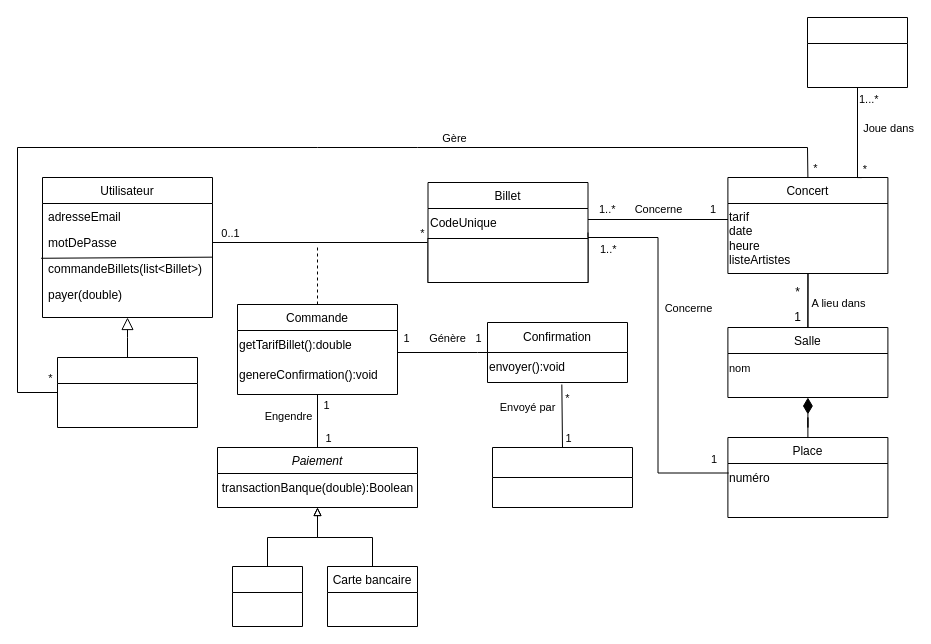
This 931x644 diagram has some shape labels left out. The shapes that lost their labels are listed below. From the top down, each one's centre as x and y in pixels, then its label:
At point 857,52: "Artiste".
At point 507,260: "getTarif():double".
At point 127,392: "Admin".
At point 562,477: "Messagerie".
At point 267,596: "Paypal".
